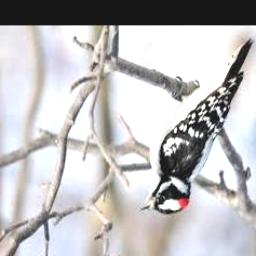Woodpecker: (137, 38, 254, 214)
